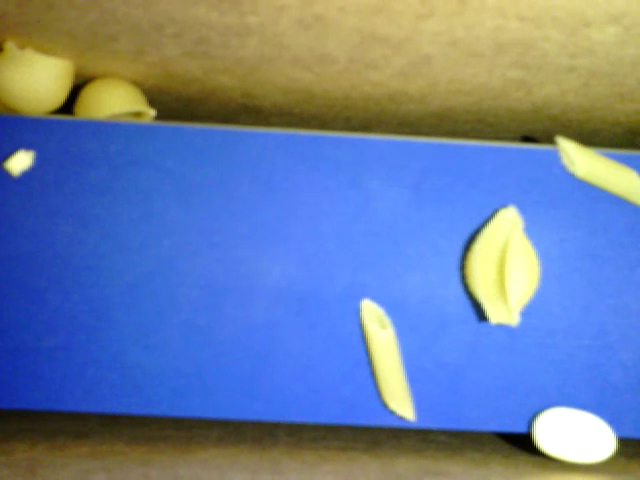penne: (356, 295, 420, 421), (554, 132, 639, 205)
shell: (460, 197, 541, 326), (1, 39, 79, 116), (76, 75, 161, 125)
